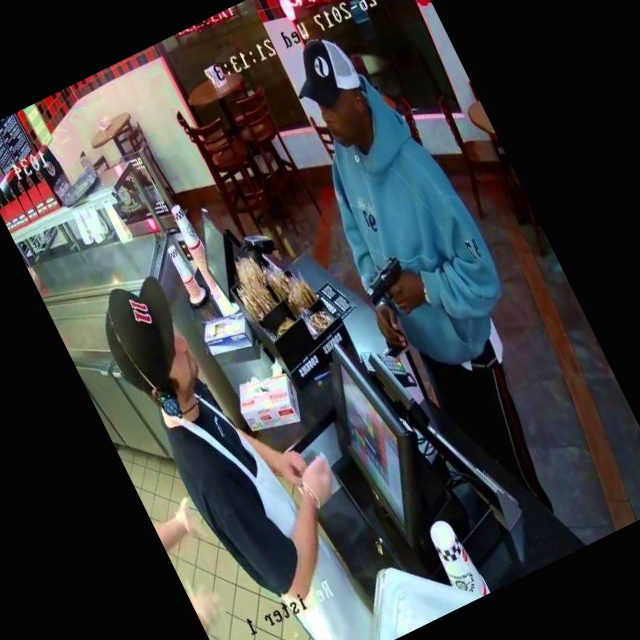gun: (340, 233, 433, 330)
